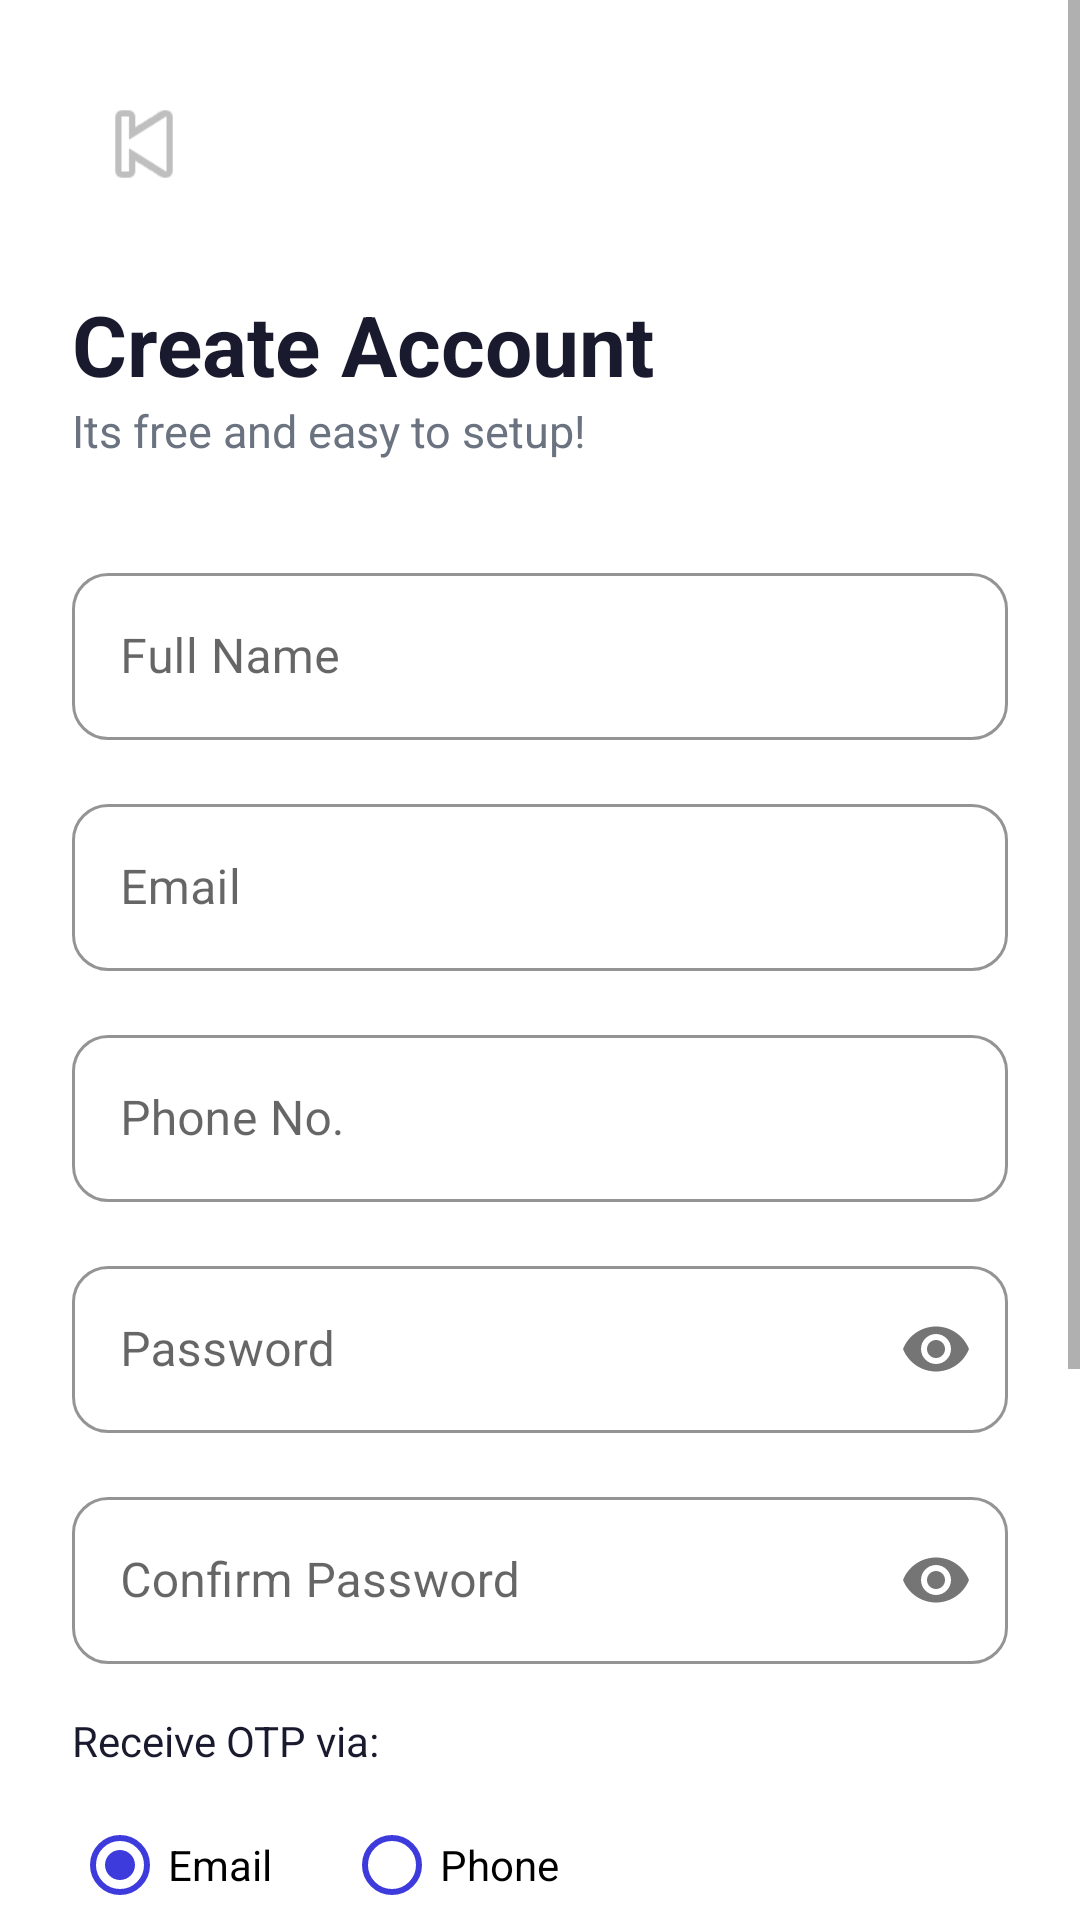

Where to tap for icons on this 1080 × 1920 app screen, as (x=x, y=y):
Back: (x=144, y=144)
